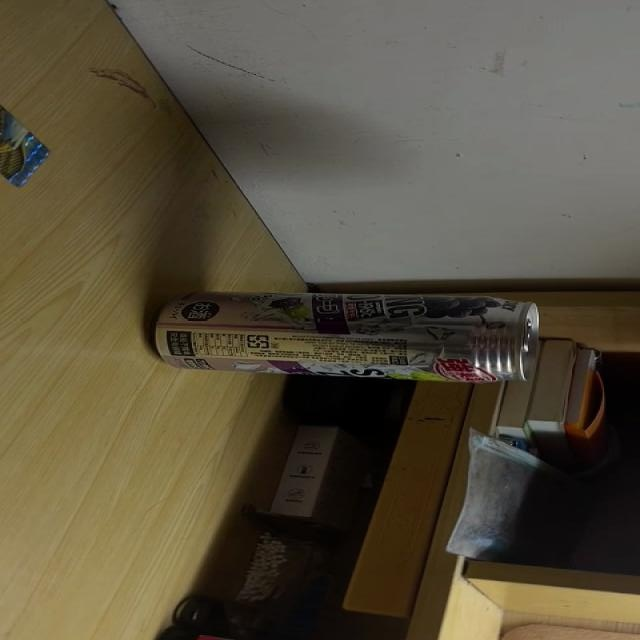Liquor: (154, 292, 546, 383)
